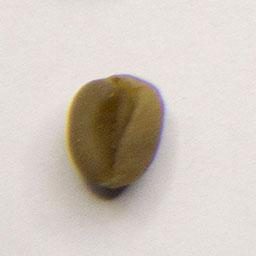peaberry: (63, 67, 169, 194)
